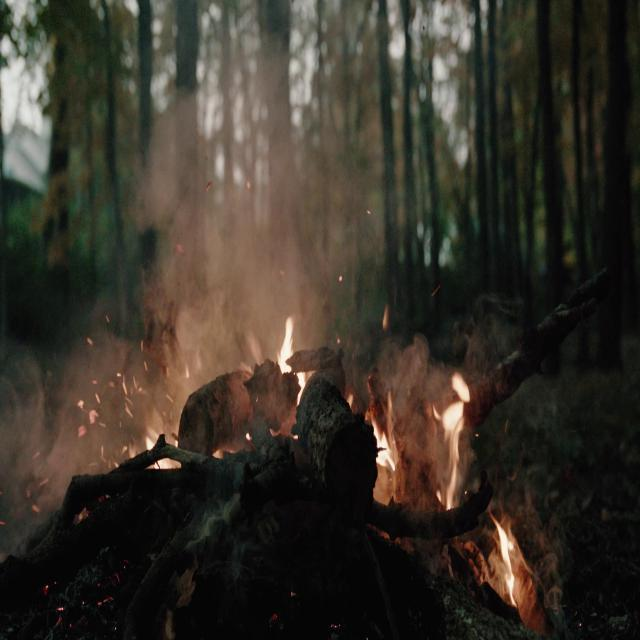Fire: (433, 364, 475, 508), (488, 512, 524, 618), (274, 314, 310, 409), (368, 404, 401, 484)
Smoke: (140, 28, 422, 334), (0, 313, 175, 518)
